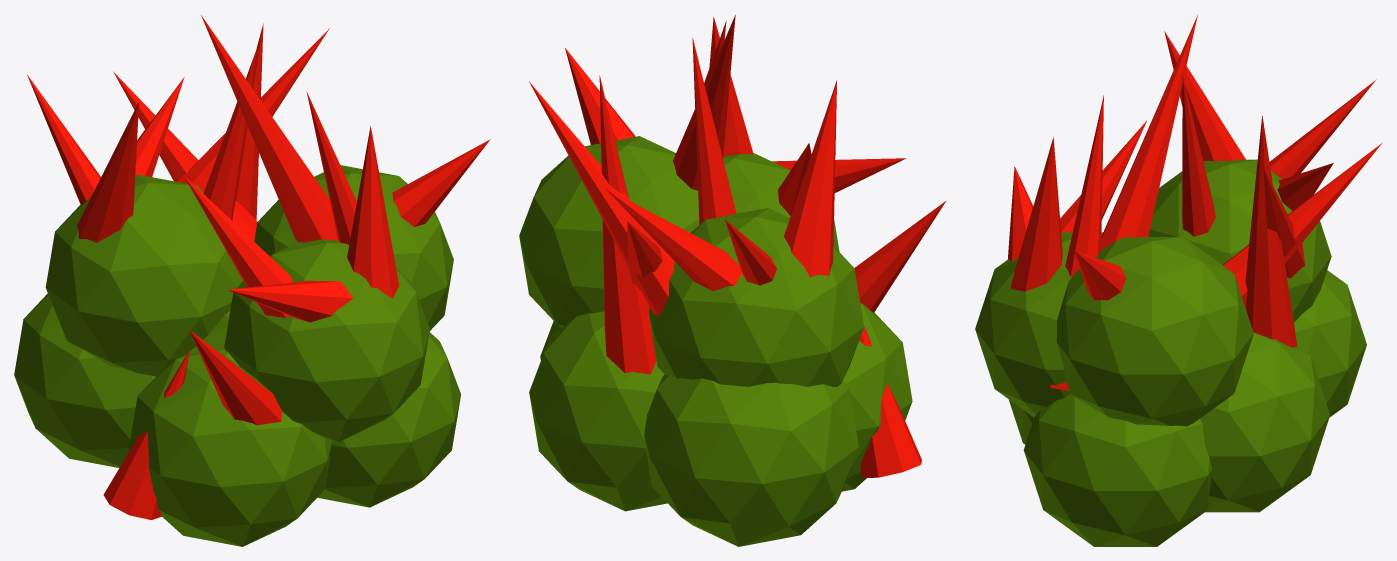
The model's file is SpikeBush.fbx.
The picture shows the model from 3 angles, left to right: view 1: azimuth 30°, elevation 25°; view 2: azimuth 150°, elevation 25°; view 3: azimuth 270°, elevation 25°; orthographic projection. The views are drawn at different scales.
Visible parts, largest first — view 1: BadBush; view 2: BadBush; view 3: BadBush.
Boxes of the visible parts, x1,y1,x2,y2 form: BadBush: (14, 15, 490, 546); BadBush: (519, 15, 945, 546); BadBush: (975, 15, 1382, 546).
Bounding box in the file's own units: 397 × 511 × 400.
